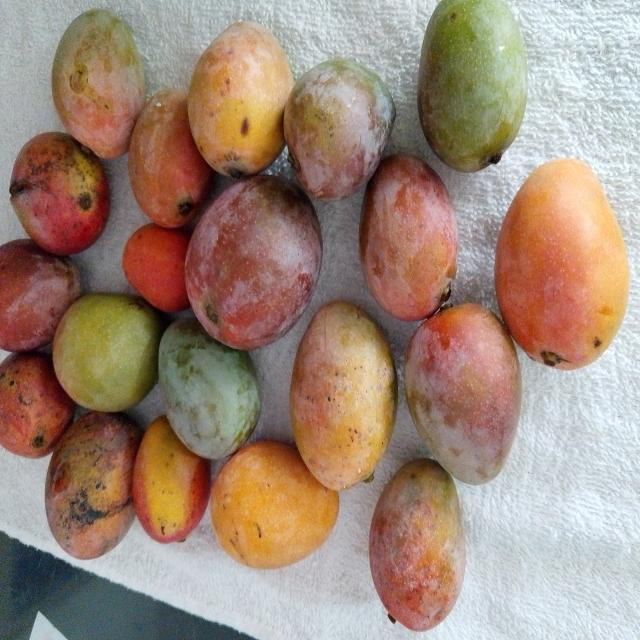mango: (495, 159, 629, 369), (184, 172, 328, 350), (405, 304, 521, 484), (290, 301, 397, 490), (418, 0, 527, 171), (369, 459, 465, 631), (188, 22, 293, 177), (360, 154, 458, 320), (211, 441, 338, 568), (284, 59, 395, 199), (159, 319, 260, 459), (45, 412, 141, 559), (52, 291, 166, 413), (52, 9, 145, 158), (129, 80, 213, 231), (10, 132, 110, 255), (133, 416, 210, 542), (0, 235, 81, 354), (0, 352, 72, 459)
